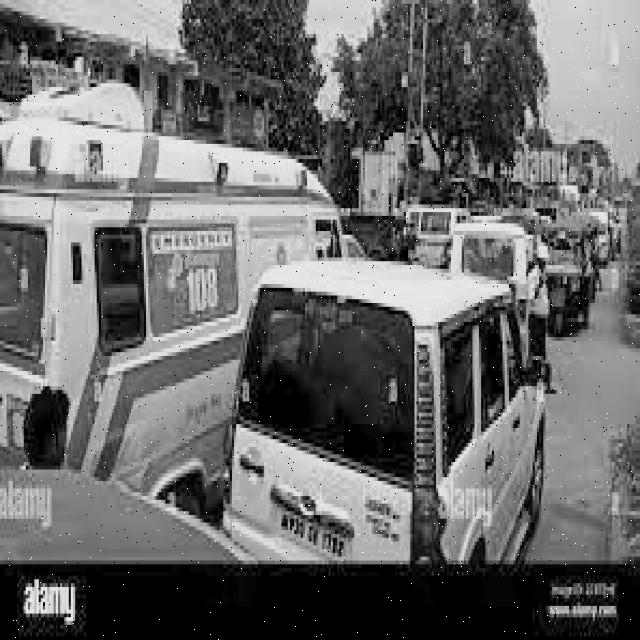Ambulance: (0, 96, 238, 475)
